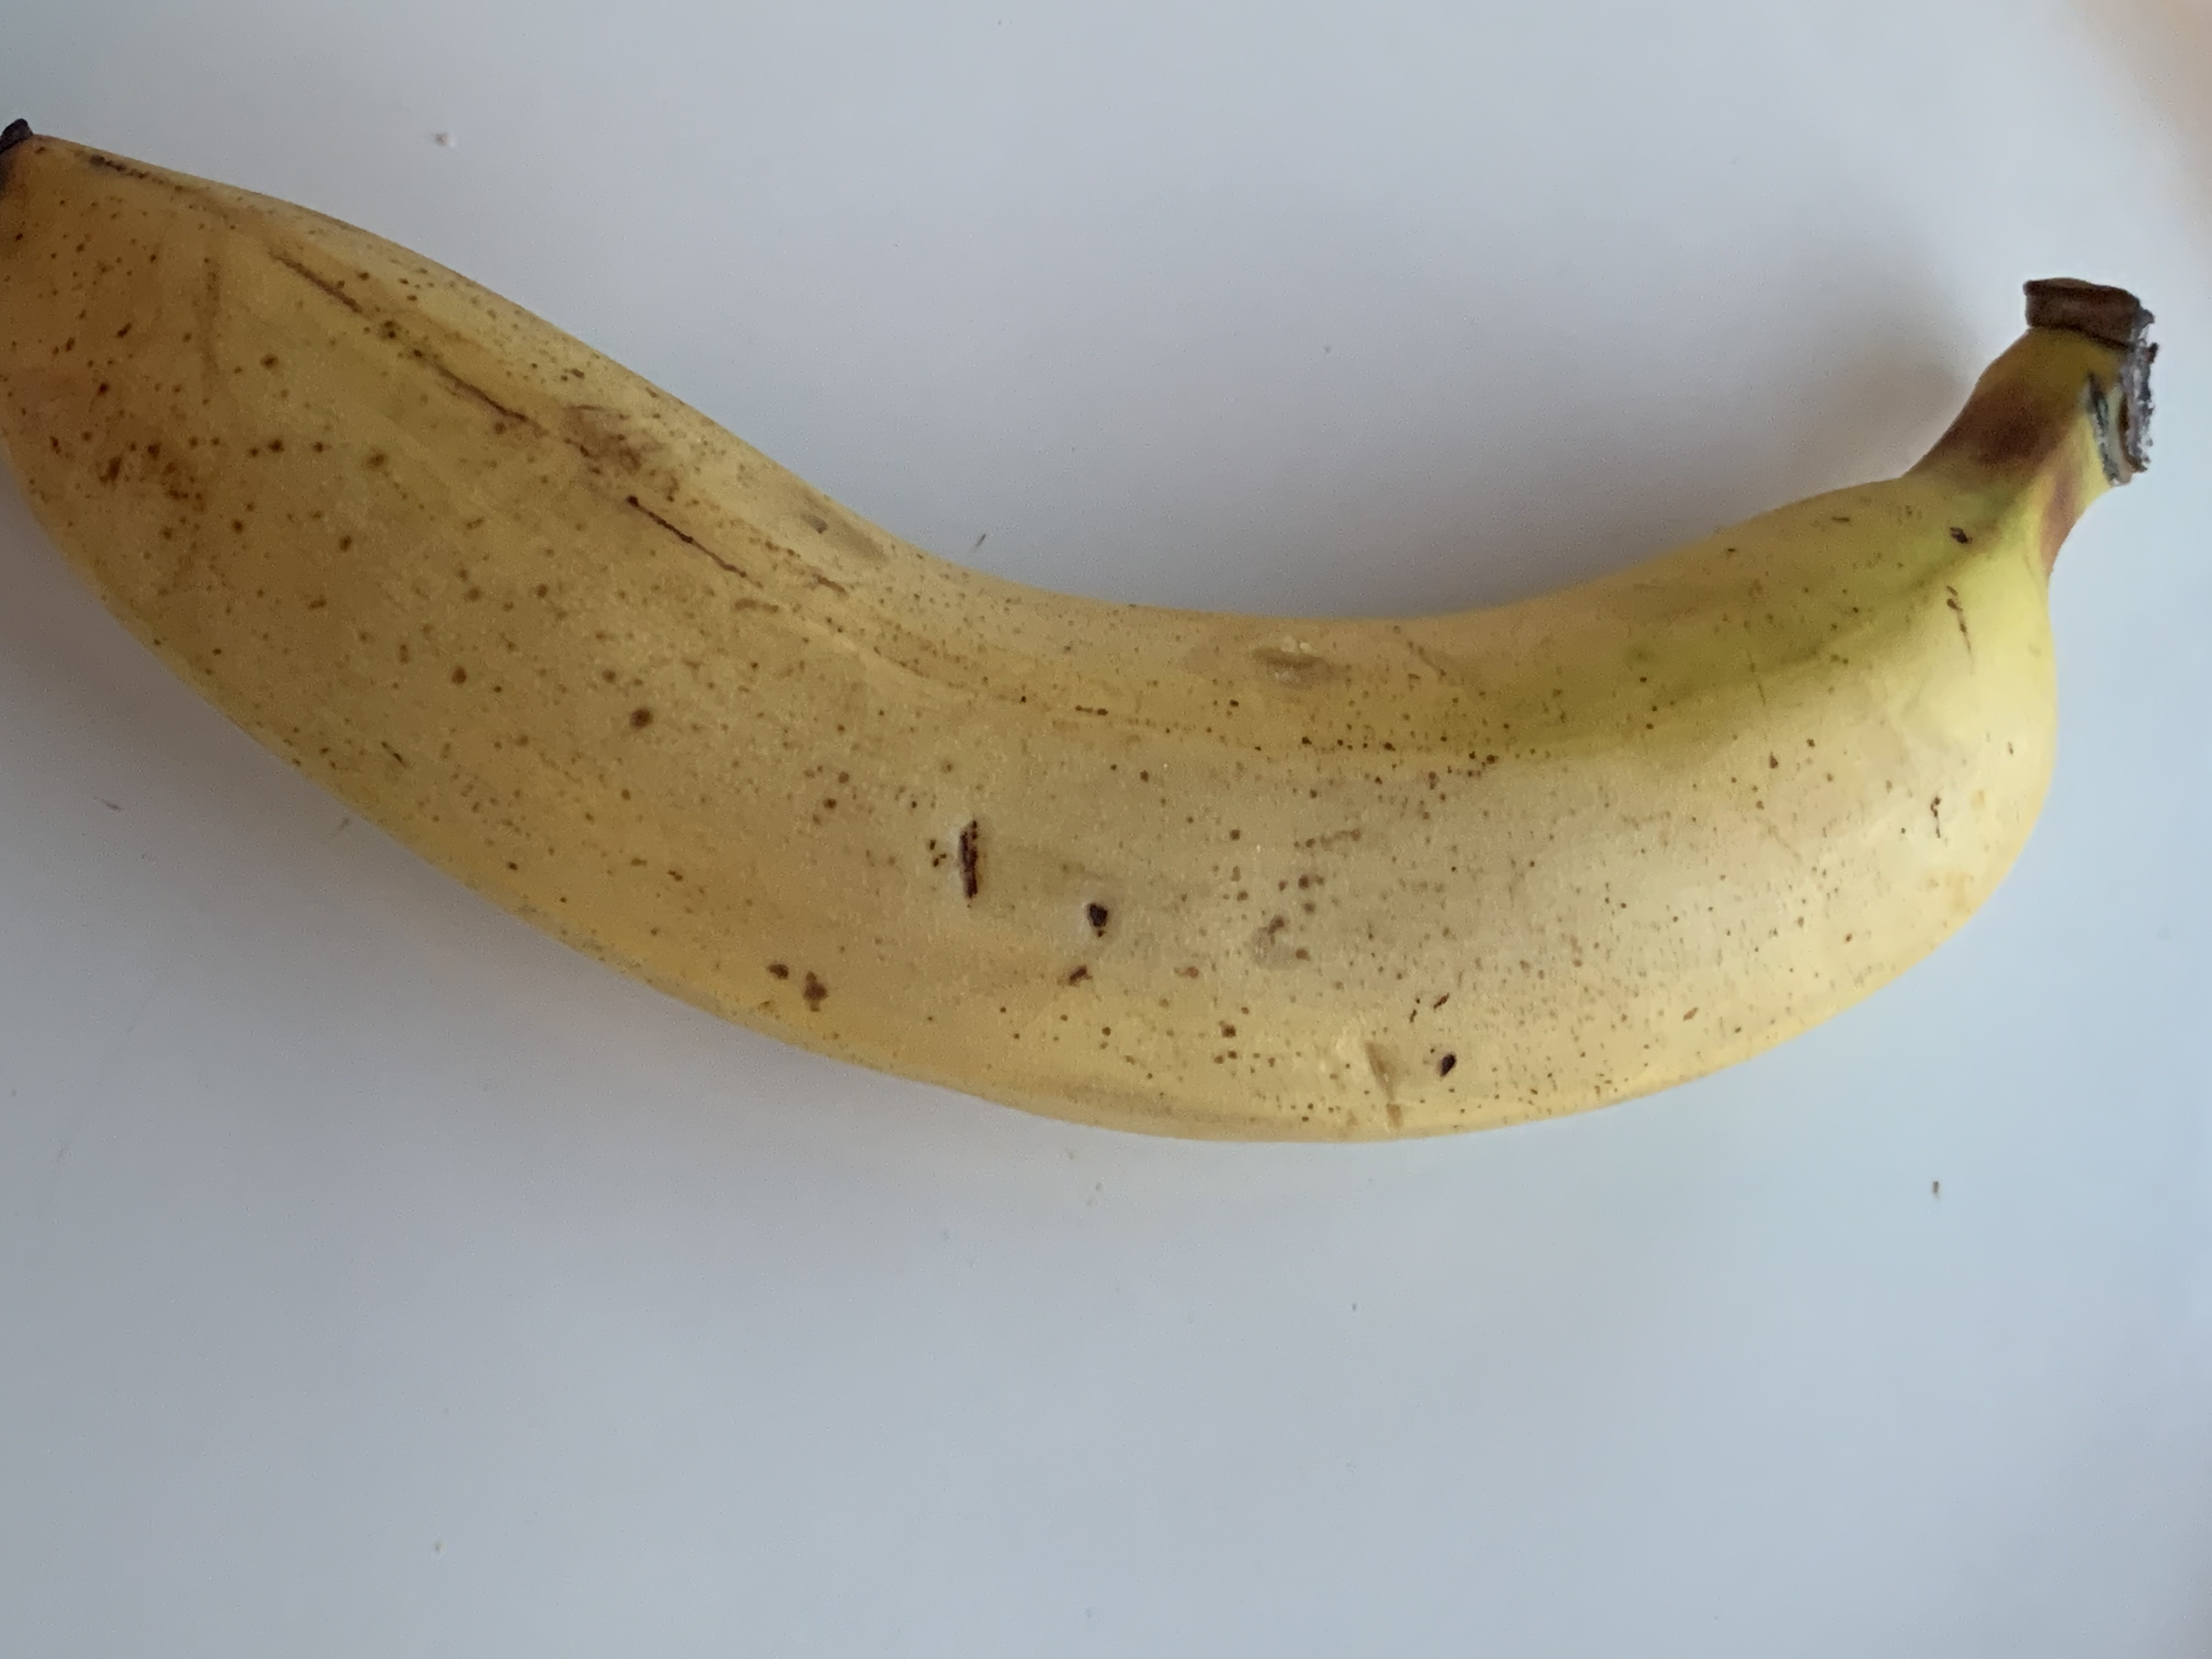banana: (2, 112, 2196, 1134)
